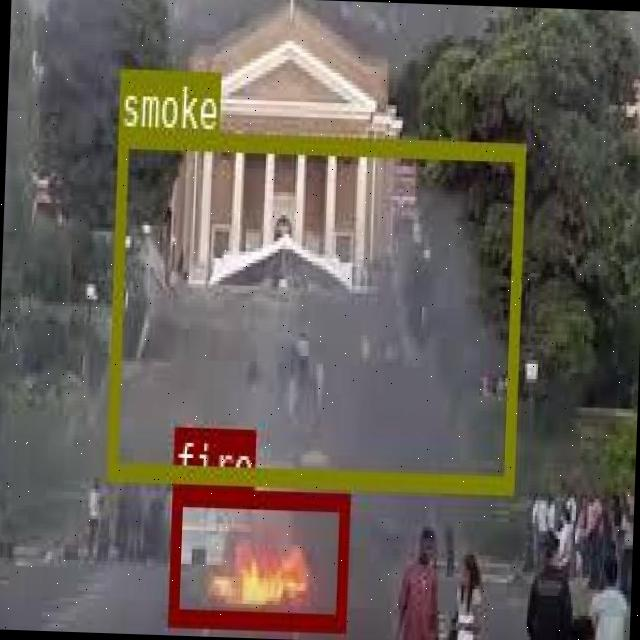fire: (167, 484, 347, 627)
smoke: (104, 127, 522, 490)
